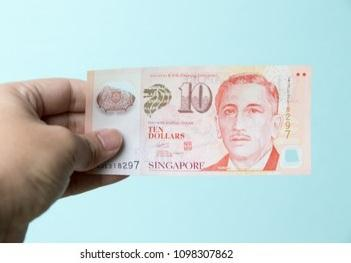10SingaporeDollar: (90, 71, 310, 173)
